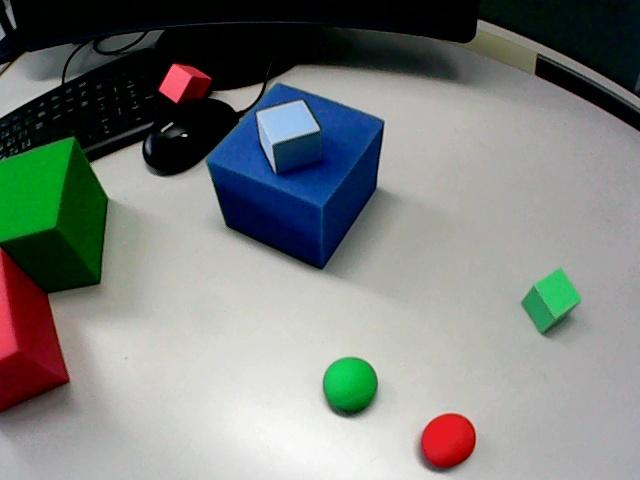blue_block: (207, 84, 383, 267), (255, 100, 322, 173)
red_block: (0, 249, 68, 410), (159, 64, 211, 103)
